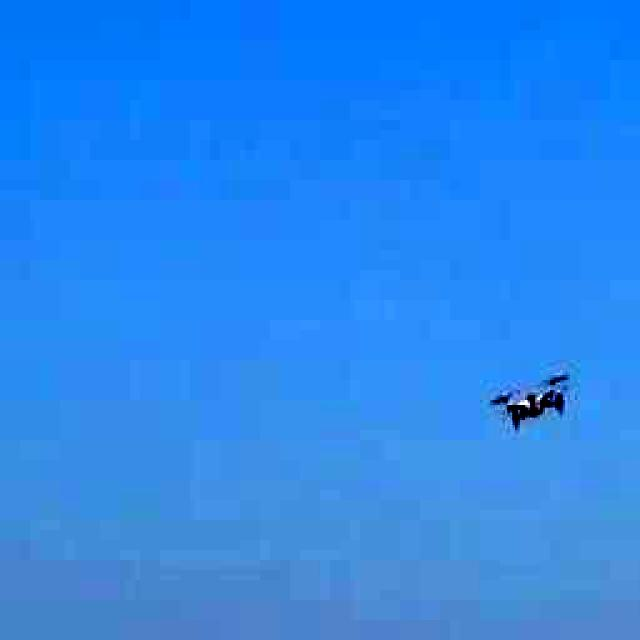bird: (472, 336, 585, 456)
